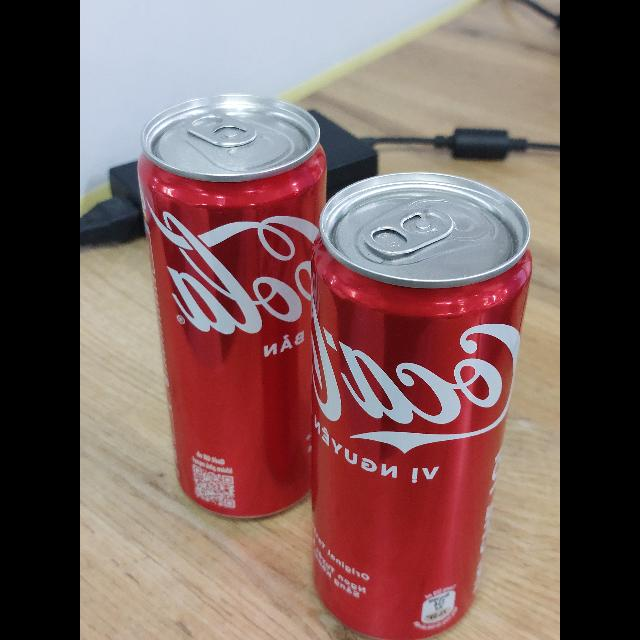coca_cola: (310, 172, 533, 640), (137, 94, 327, 522)
